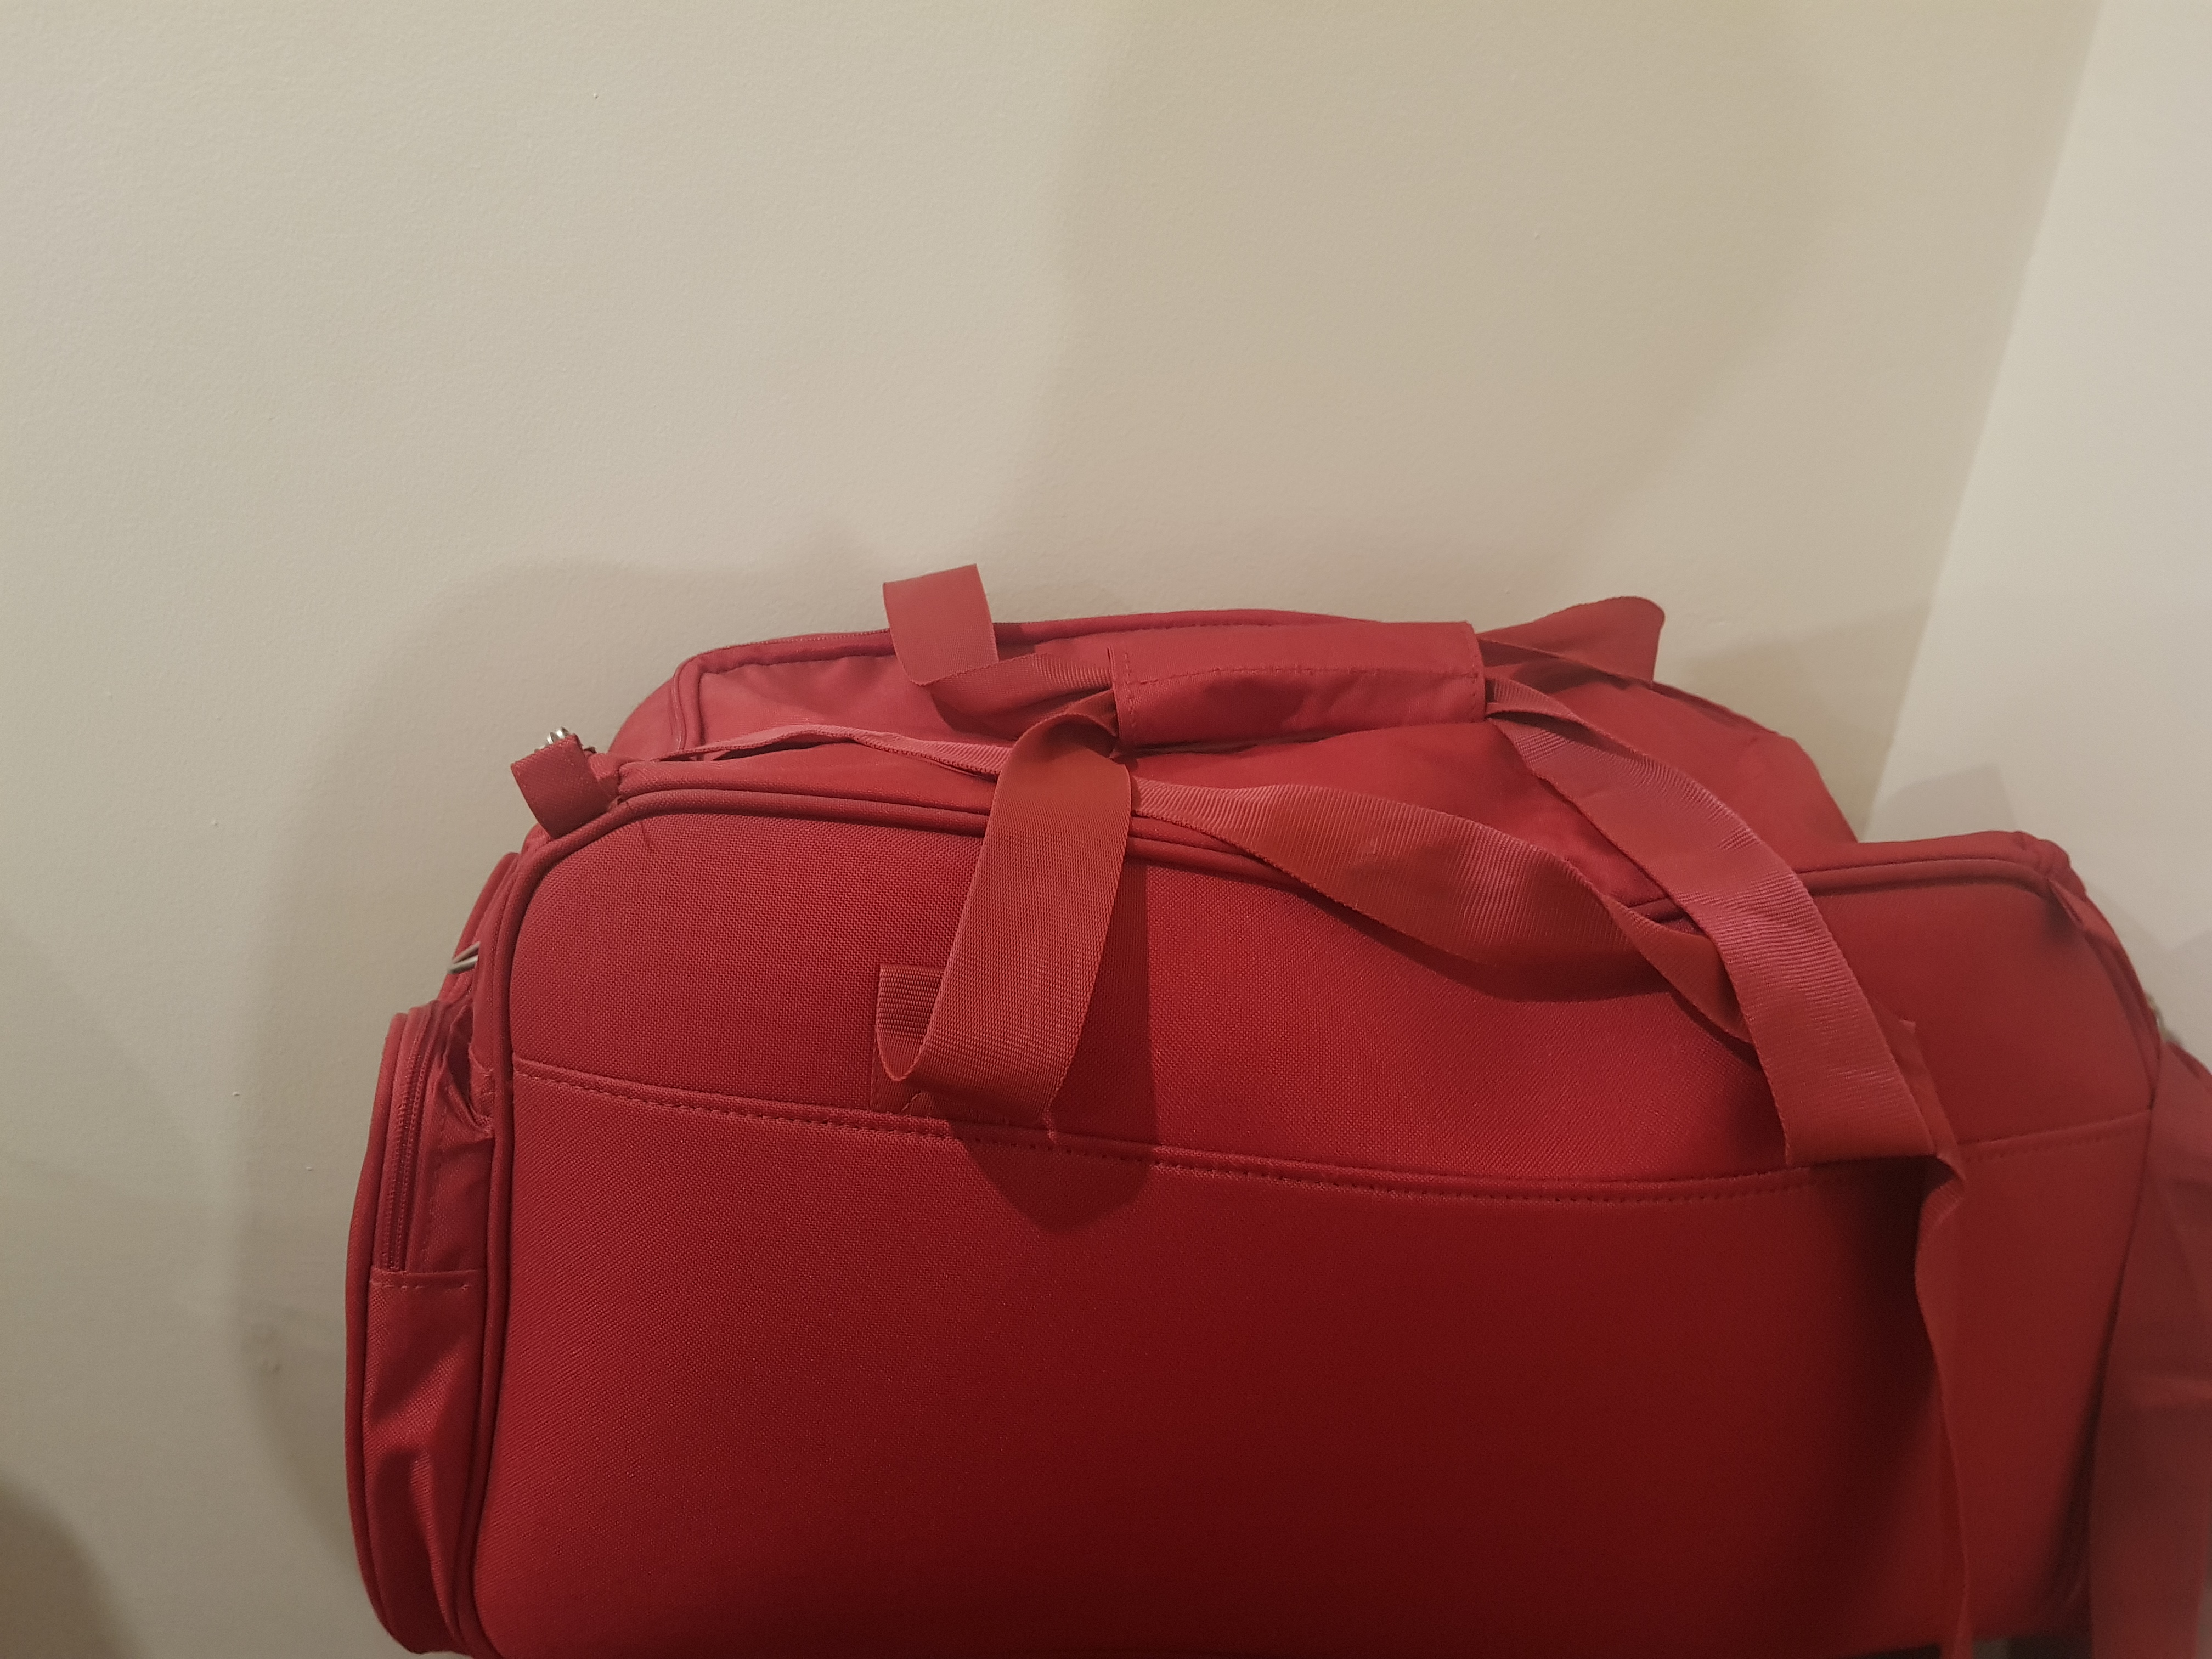Red: (334, 561, 2210, 1659)
